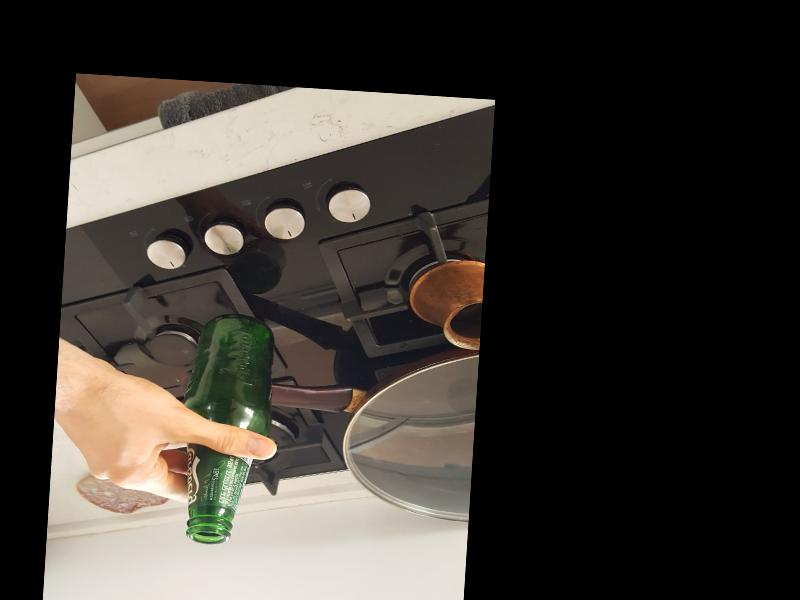Beer: (184, 312, 275, 545)
